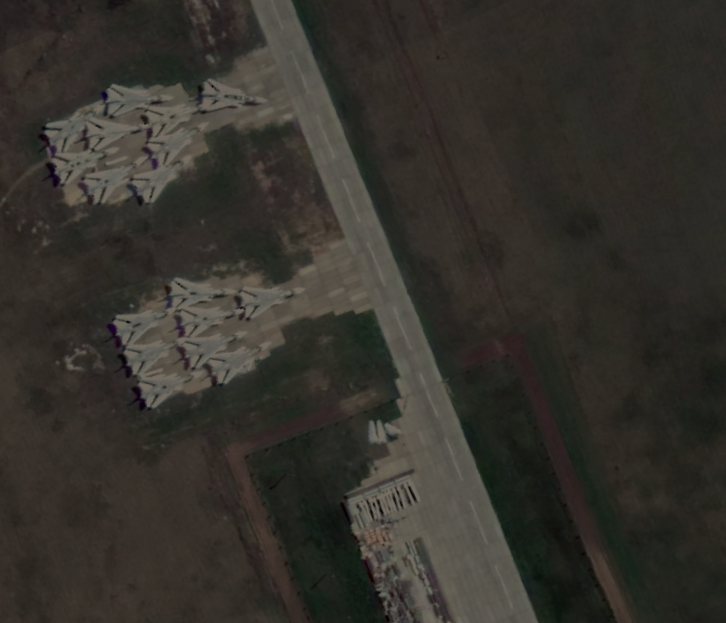A20: (128, 152, 197, 207), (45, 143, 124, 187), (108, 299, 177, 348), (231, 280, 307, 323), (79, 155, 150, 200), (204, 342, 274, 387), (179, 327, 250, 371), (144, 123, 210, 169), (133, 368, 204, 410), (116, 338, 185, 380), (41, 102, 100, 150), (103, 80, 175, 118), (199, 76, 268, 115), (163, 276, 234, 313), (85, 115, 156, 152), (177, 304, 244, 339), (140, 101, 202, 137)
